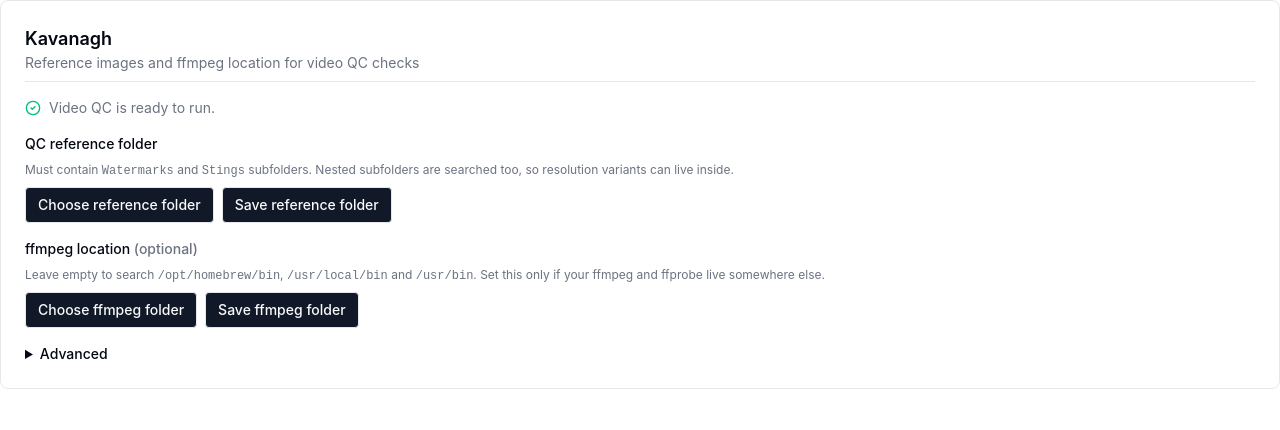
KavanaghSection › B14.2 shows the folder the picker returned
Click the button "Choose reference folder": (119, 205) [25, 187, 214, 223]
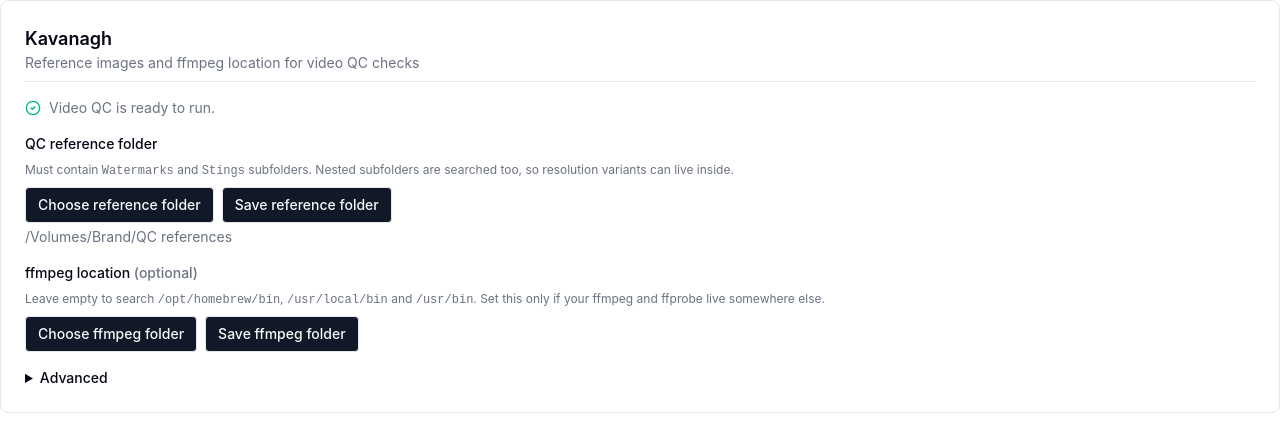
Expected: the text "/Volumes/Brand/QC references" is shown, [25, 228, 232, 245]
